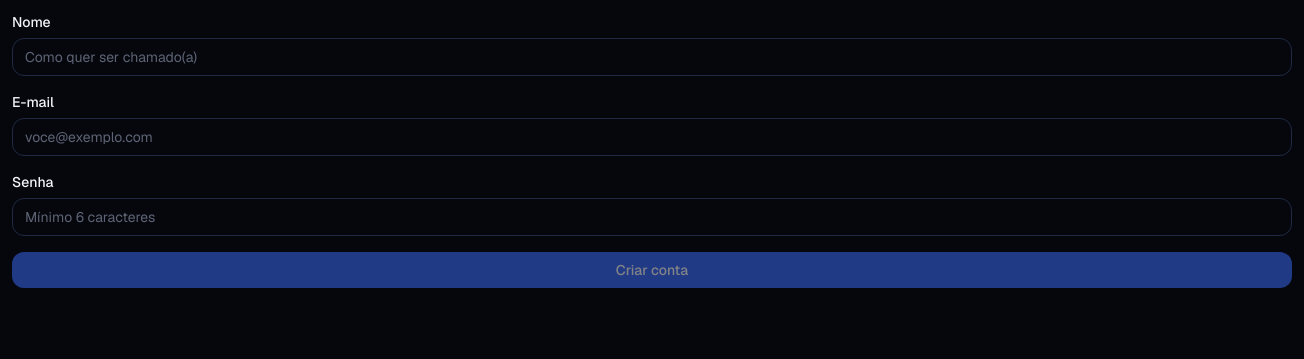
Test case: SignUpForm › traduz e-mail já registrado para PT-BR
Type "Theo" into the field labelled "Nome" at (652,57), box [12,38,1292,76]
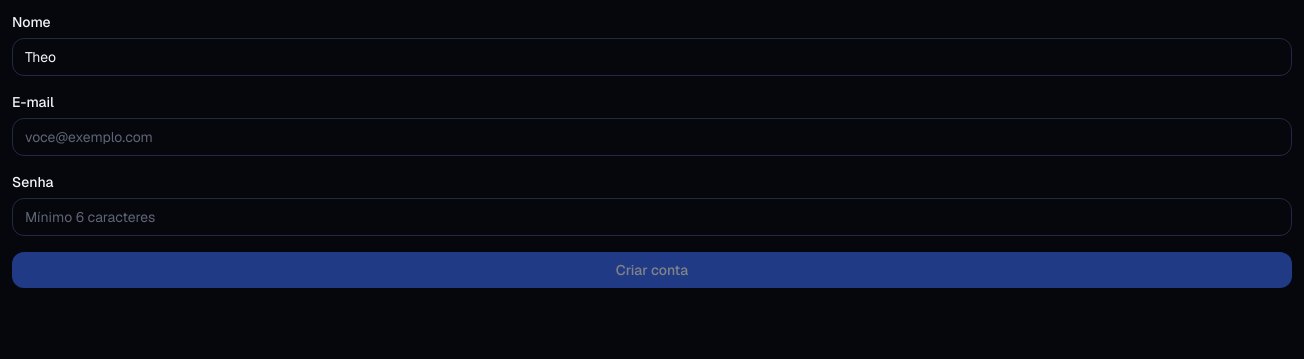
Type "theo@example.com" into the field labelled "E-mail" at (652,137), box [12,118,1292,156]
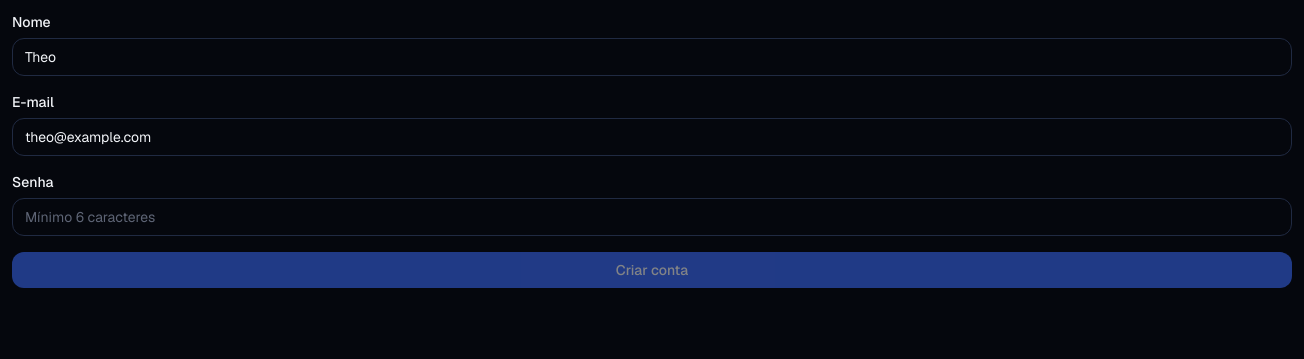
Type "senha-forte" into the password field labelled "Senha" at (652,217), box [12,198,1292,236]
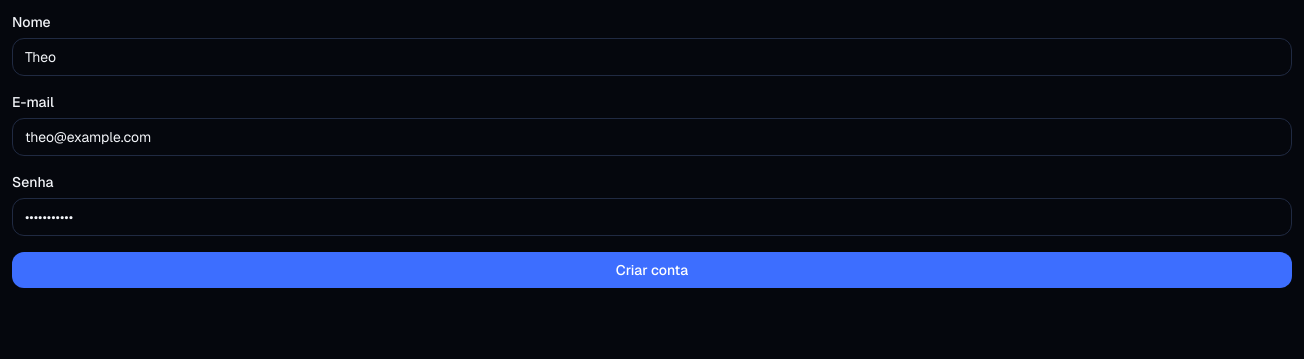
Click the button "Criar conta" at (652,270), box [12,252,1292,288]
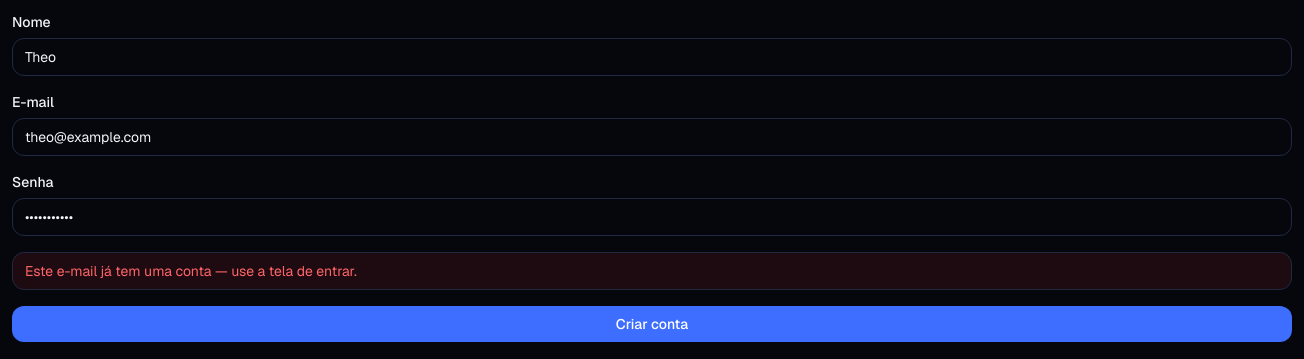
Check: the message shows "já tem uma conta", box [25,262,357,280]
